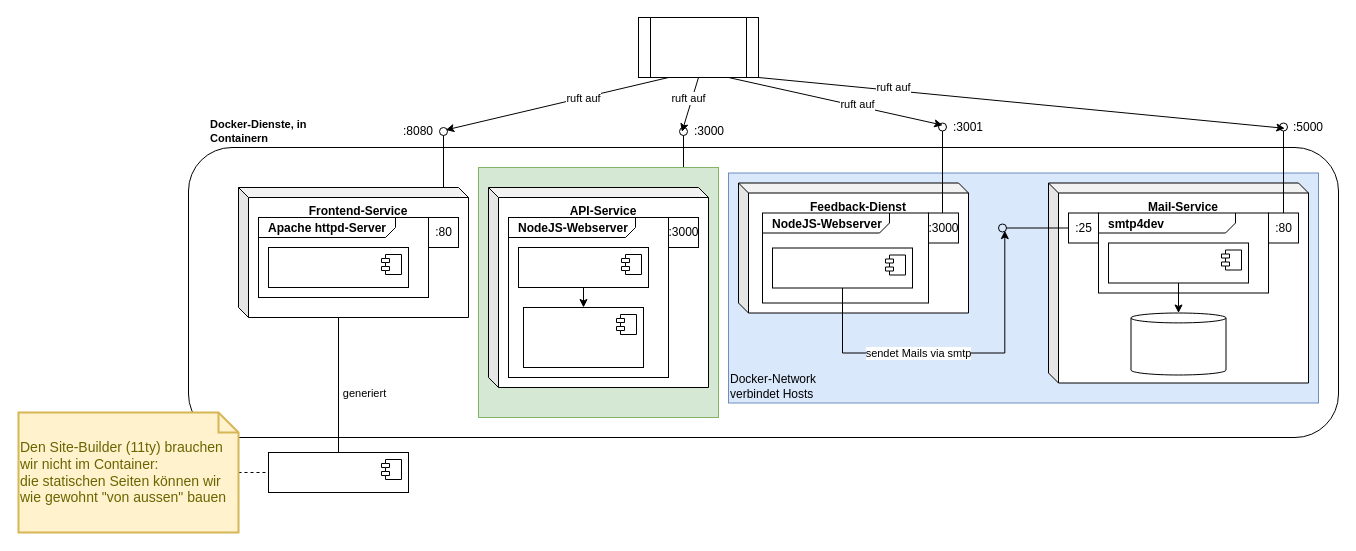
The diagram is 1356 pixels wide and 551 high, and some of its shapes have lost their labels. Here are the shapes that lost their labels. From the top down, the centre of each, then its label:
the point at 698,47: Client Browser
the point at 338,267: statische Seiten
the point at 583,267: Demo-/Text- API
the point at 842,267: Form-Backend
the point at 1178,262: smtp-Server und Web-App
the point at 583,337: Datenbank sqlite In-Memory
the point at 1178,343: Docker- Volume für Maildaten
the point at 338,472: Site-Builder 11ty
